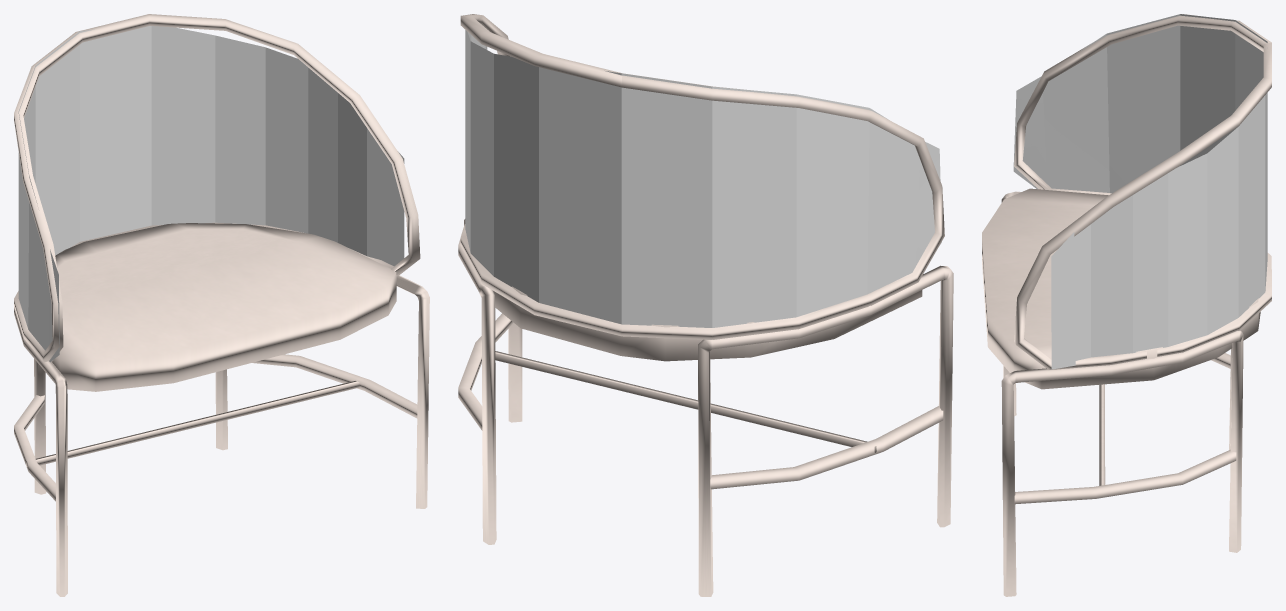
The model's file is chair1Side.fbx.
The picture shows the model from 3 angles, left to right: view 1: azimuth 30°, elevation 25°; view 2: azimuth 150°, elevation 25°; view 3: azimuth 270°, elevation 25°; orthographic projection. The views are drawn at different scales.
Visible parts, largest first — view 1: polySurface2; view 2: polySurface2; view 3: polySurface2.
Boxes of the visible parts, x1=… form: polySurface2: x1=14, y1=14, x2=429, y2=596; polySurface2: x1=458, y1=14, x2=953, y2=596; polySurface2: x1=982, y1=14, x2=1271, y2=596.
Bounding box in the file's own units: 2.35 × 2.64 × 1.55.
Materials: 2 (2 with a texture image).
